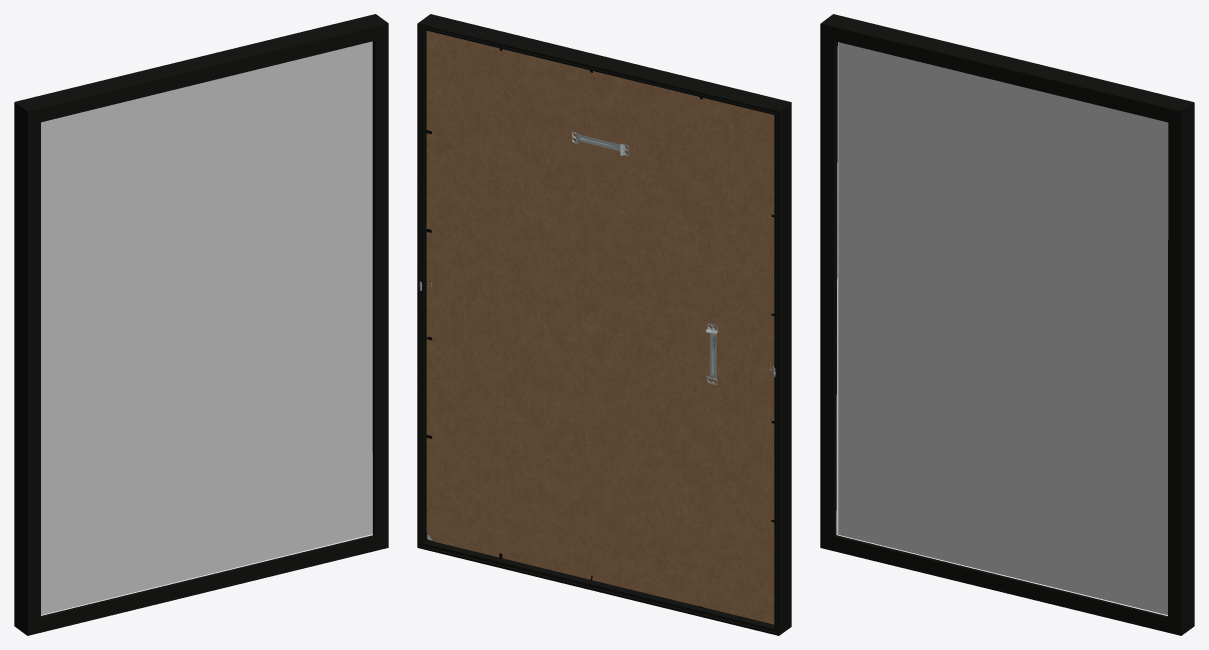
The model's file is rodalm_ramka_70548925.glb.
The picture shows the model from 3 angles, left to right: view 1: azimuth 30°, elevation 25°; view 2: azimuth 150°, elevation 25°; view 3: azimuth 330°, elevation 25°; orthographic projection.
Visible parts, largest first — view 1: rodalm_ramka_70548925; view 2: rodalm_ramka_70548925; view 3: rodalm_ramka_70548925.
Part boxes in pixels (box(x1,y1,x2,y2)): rodalm_ramka_70548925: box(14, 14, 388, 635); rodalm_ramka_70548925: box(417, 14, 791, 635); rodalm_ramka_70548925: box(820, 14, 1194, 635).
Size of the model in its own units: 0.5179 by 0.7179 by 0.0322.
Materials: 2 (2 with a texture image).
